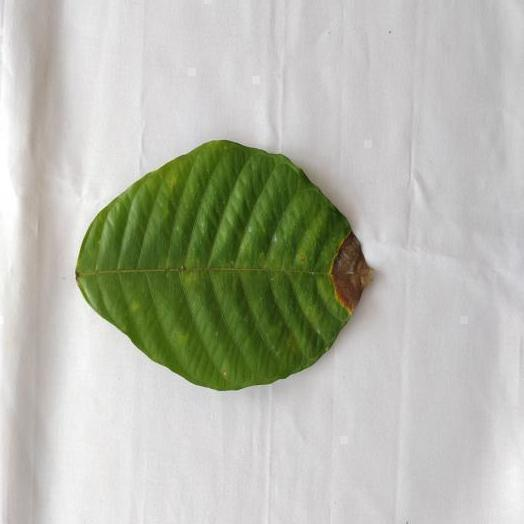Potassium: (76, 140, 370, 389)
